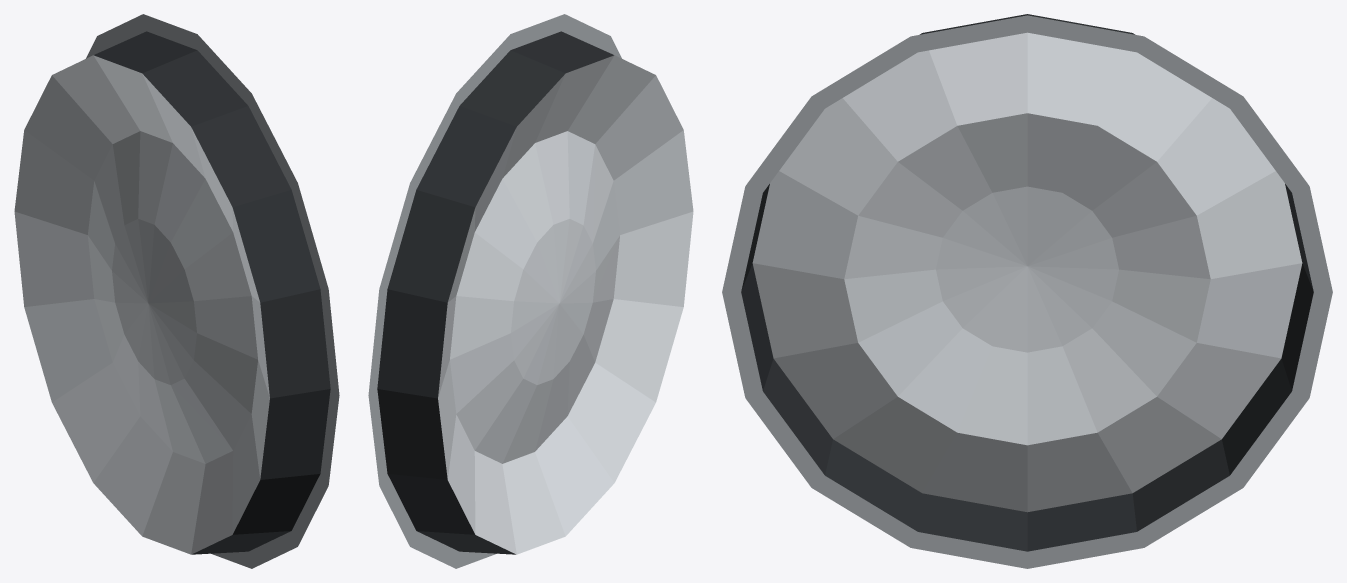
Rendered from rim_10_retro_smoothie.obj.
The picture shows the model from 3 angles, left to right: view 1: azimuth 30°, elevation 25°; view 2: azimuth 150°, elevation 25°; view 3: azimuth 270°, elevation 25°; orthographic projection. The views are drawn at different scales.
Parts seen in each view (by area): view 1: rim_10_retro_smoothie; view 2: rim_10_retro_smoothie; view 3: rim_10_retro_smoothie.
Boxes of the visible parts, x1,y1,x2,y2 form: rim_10_retro_smoothie: [14, 14, 339, 568]; rim_10_retro_smoothie: [368, 14, 693, 568]; rim_10_retro_smoothie: [722, 14, 1332, 568].
Bounding box in the file's own units: 0.0562 × 0.5 × 0.5.
